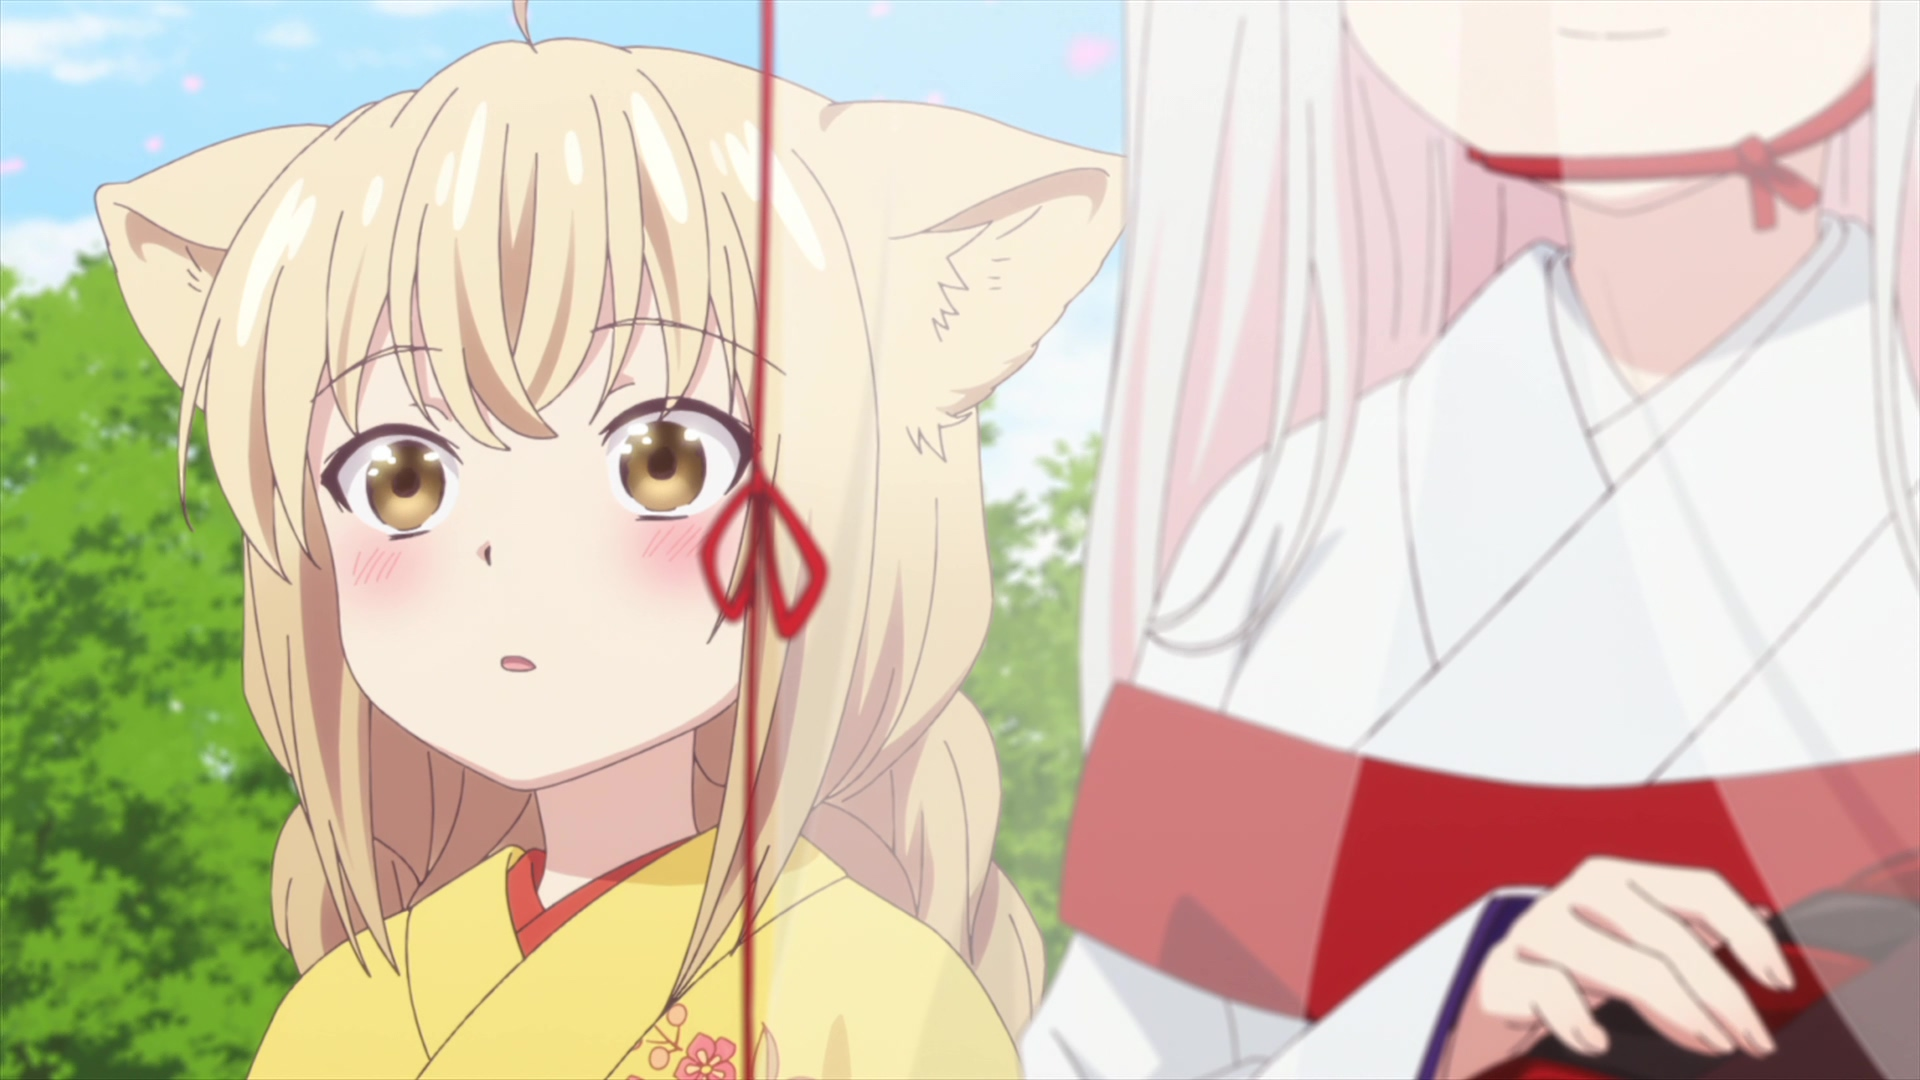其他: (699, 1, 1920, 1080)
柚: (95, 1, 1125, 1080)
